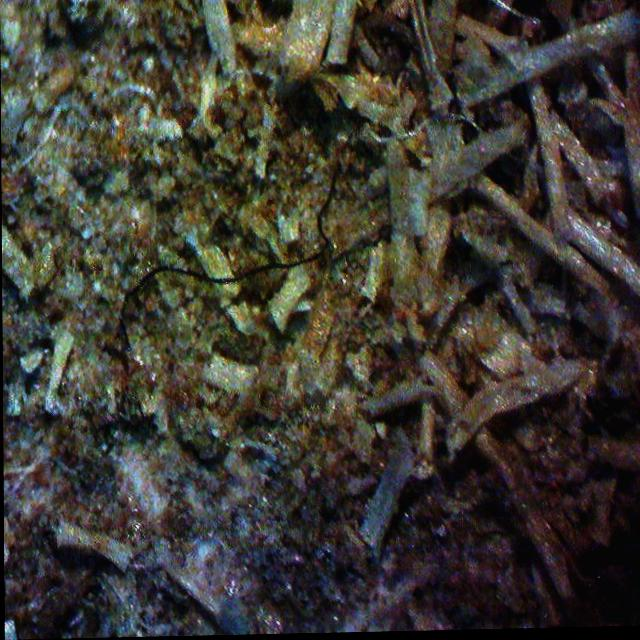microplastic: (100, 184, 360, 352)
